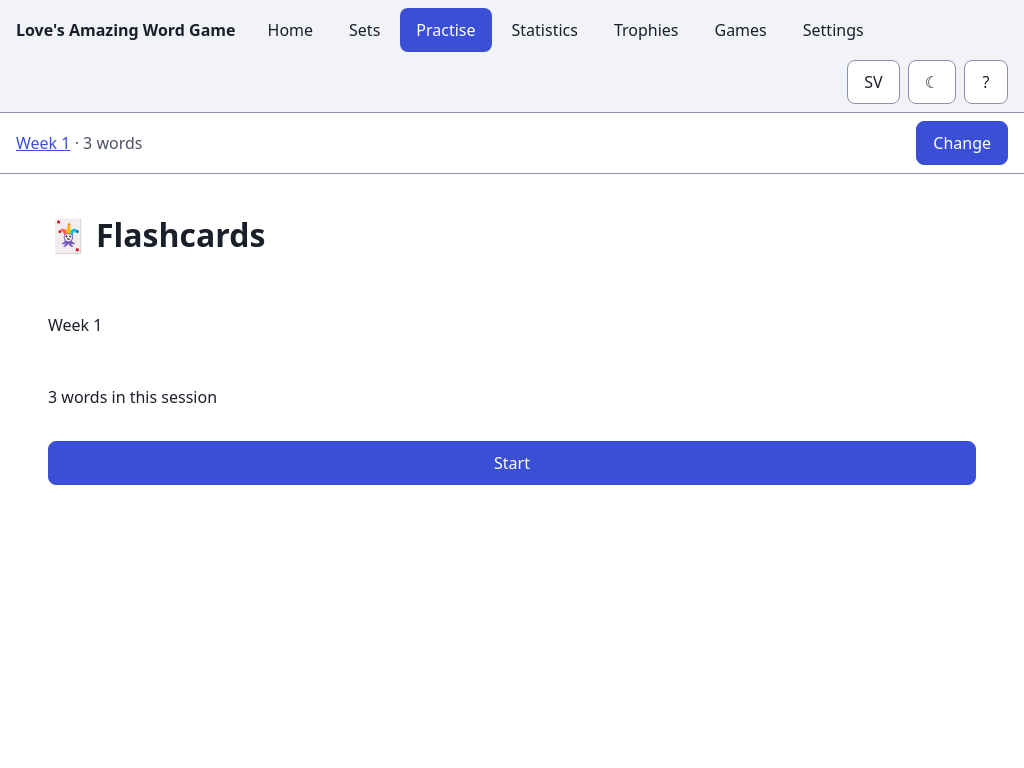
Test: running a session › FR-TRN-3, FR-TRN-8: labels the prompt language and shows the progress
Click the button "Start".
click(512, 463)  # box top-left (48, 441), bottom-right (976, 485)
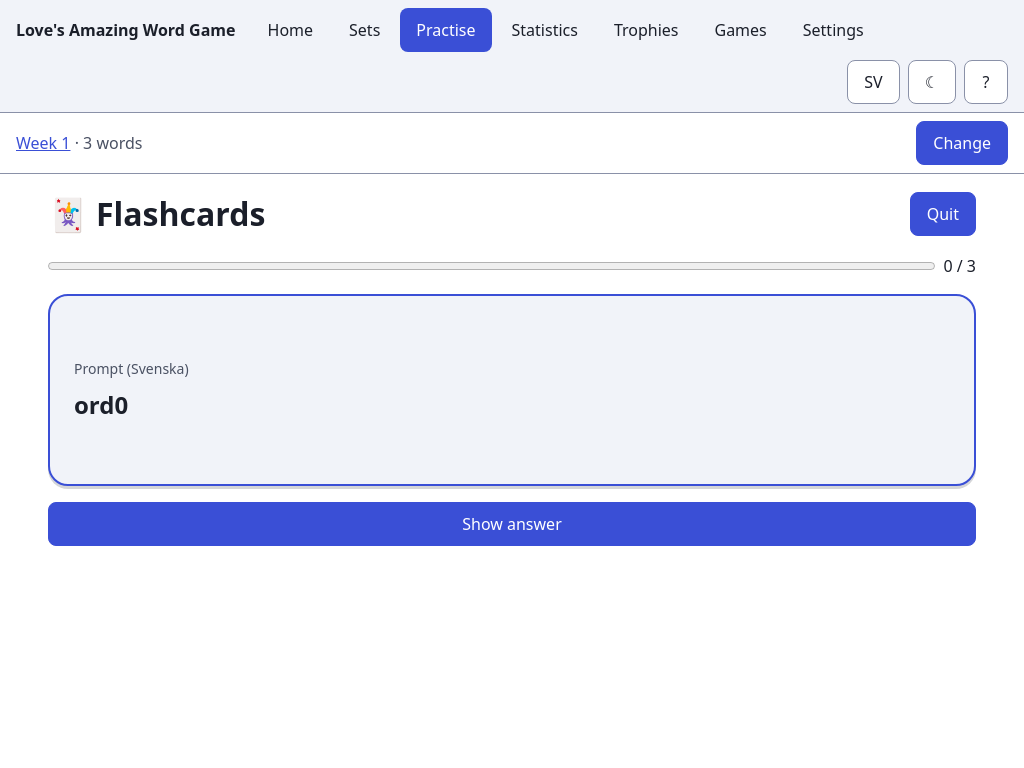
Expected: the text "Prompt (Svenska)" is shown, top-left (74, 358), bottom-right (189, 378)
Expected: the text "0 / 3" is shown, top-left (943, 254), bottom-right (976, 278)
Click the button "Show answer".
click(512, 524)  # box top-left (48, 502), bottom-right (976, 546)
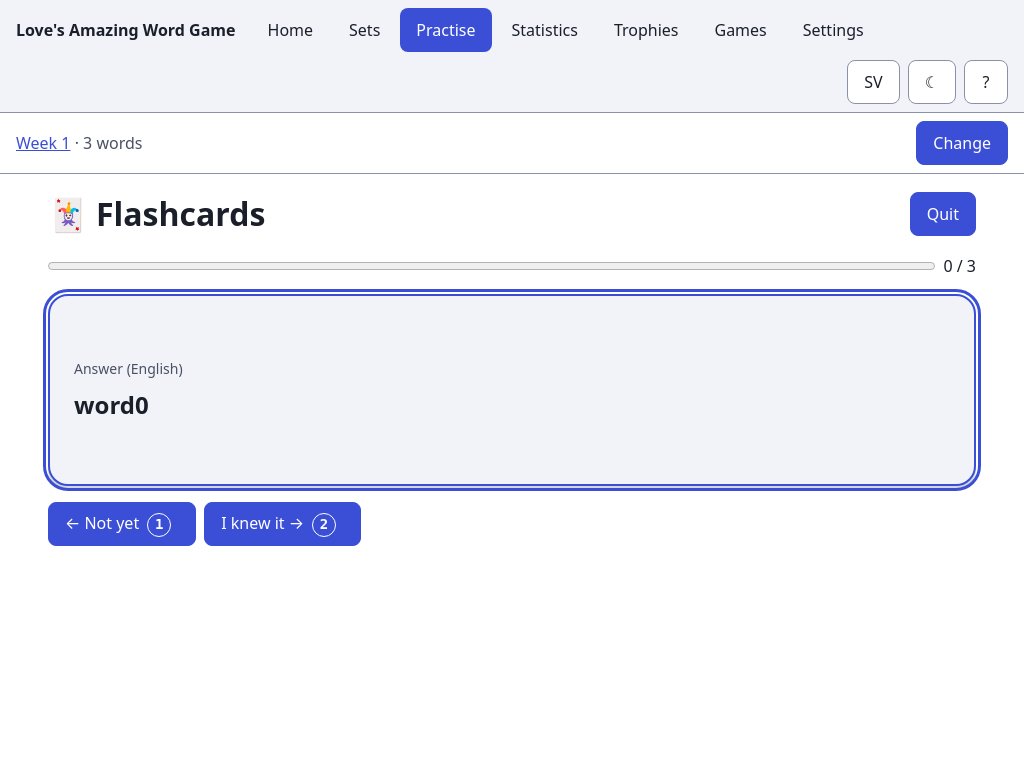
Click the button "I knew it → 2".
click(283, 524)  # box top-left (204, 502), bottom-right (361, 546)
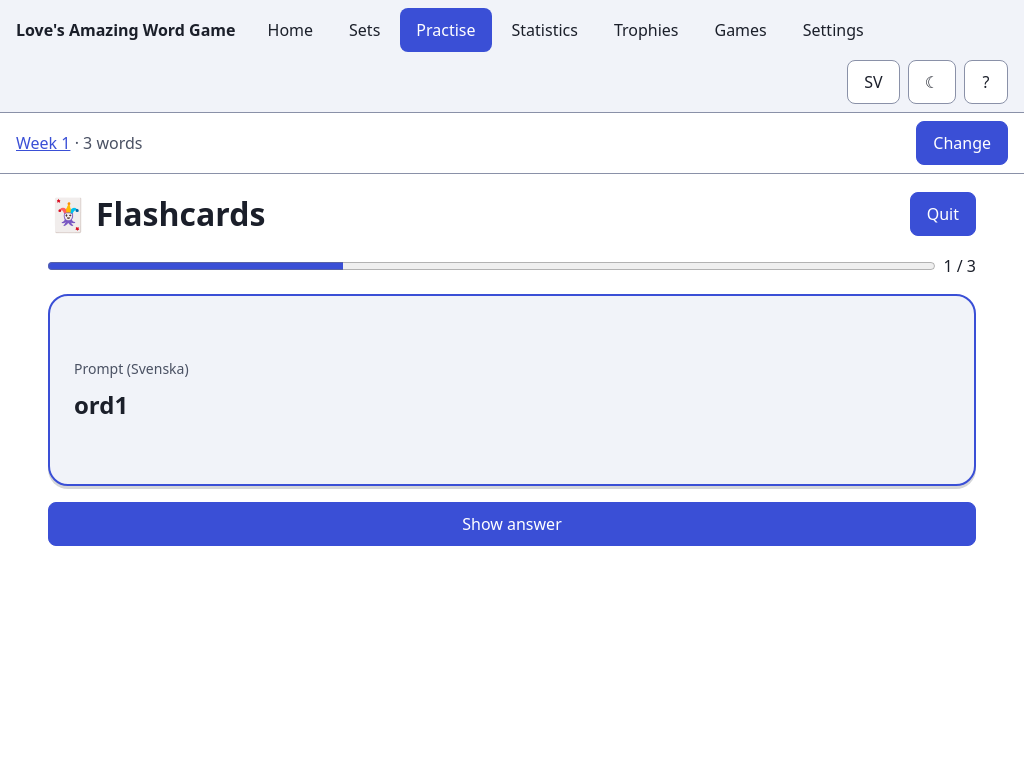
Expected: the text "1 / 3" is shown, top-left (943, 254), bottom-right (976, 278)
